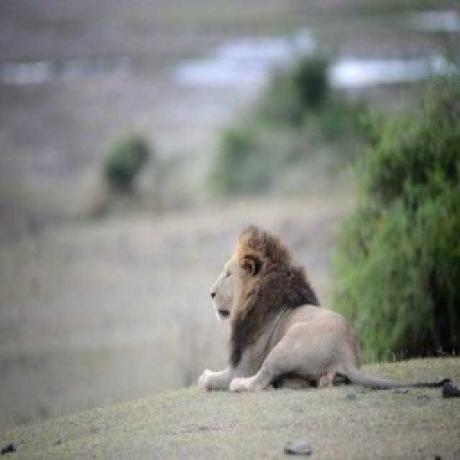Lion: (199, 221, 454, 394)
